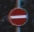No entry: (5, 6, 29, 27)
